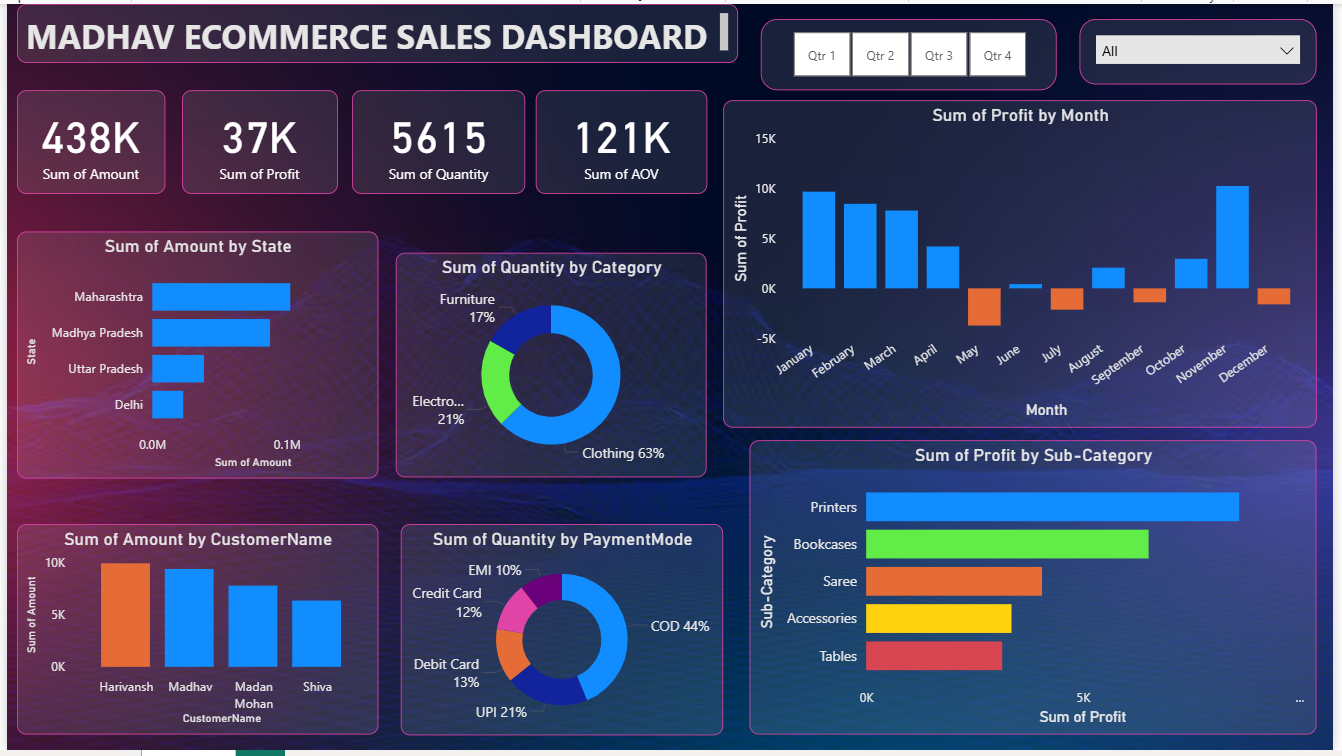

What the dashboard file says about the page in this screenshot:
{"tool":"powerbi","page":{"name":"Page 1","canvas":[1280,720],"ordinal":0},"visuals":[{"type":"textbox","box":[10,0,695.7,57.1],"z":0},{"type":"columnChart","fields":{"Category":["Orders.Order Date.Variation.Date Hierarchy.Month"],"Y":["Details.Profit"]},"box":[691.4,92.9,572.9,315.7],"z":1000},{"type":"barChart","fields":{"Category":["Details.Sub-Category"],"Y":["Details.Profit"]},"box":[717.1,421.4,547.1,284.3],"z":2000},{"type":"donutChart","fields":{"Category":["Details.Category"],"Y":["Details.Quantity"]},"box":[375.7,240,300,217.1],"z":3000},{"type":"donutChart","fields":{"Category":["Details.PaymentMode"],"Y":["Details.Quantity"]},"box":[380,501.4,311.4,204.3],"z":4000},{"type":"card","fields":{"Values":["Details.Amount"]},"box":[10,82.9,142.9,100],"z":5000},{"type":"card","fields":{"Values":["Details.Quantity"]},"box":[332.9,82.9,167.1,100],"z":6000},{"type":"card","fields":{"Values":["Details.Profit"]},"box":[168.6,82.9,150,100],"z":7000},{"type":"card","fields":{"Values":["Details.AOV"]},"box":[510,82.9,165.7,100],"z":8000},{"type":"barChart","fields":{"Category":["Orders.State"],"Y":["Details.Amount"]},"box":[9.5,219.3,348.7,238.3],"z":9000},{"type":"columnChart","fields":{"Category":["Orders.CustomerName"],"Y":["Details.Amount"]},"box":[10,501.4,348.6,202.9],"z":10000},{"type":"slicer","fields":{"Values":["Orders.Order Date.Variation.Date Hierarchy.Quarter"]},"box":[727.1,14.3,285.7,68.6],"z":11000},{"type":"slicer","fields":{"Values":["Orders.State"]},"box":[1035.7,14.3,228.6,62.9],"z":12000}]}

Visuals, with their boxes in screenshot pixels (x1, y1, x2, y2), scaled from the page's 1280x720 canvas onto the 1342x756 screenshot:
textbox: (10, 0, 740, 60)
columnChart - Orders.Order Date.Variation.Date Hierarchy.Month x Details.Profit: (725, 98, 1326, 429)
barChart - Details.Sub-Category x Details.Profit: (752, 442, 1325, 741)
donutChart - Details.Category x Details.Quantity: (394, 252, 708, 480)
donutChart - Details.PaymentMode x Details.Quantity: (398, 526, 725, 741)
card - Details.Amount: (10, 87, 160, 192)
card - Details.Quantity: (349, 87, 524, 192)
card - Details.Profit: (177, 87, 334, 192)
card - Details.AOV: (535, 87, 708, 192)
barChart - Orders.State x Details.Amount: (10, 230, 376, 480)
columnChart - Orders.CustomerName x Details.Amount: (10, 526, 376, 740)
slicer - Orders.Order Date.Variation.Date Hierarchy.Quarter: (762, 15, 1062, 87)
slicer - Orders.State: (1086, 15, 1326, 81)
